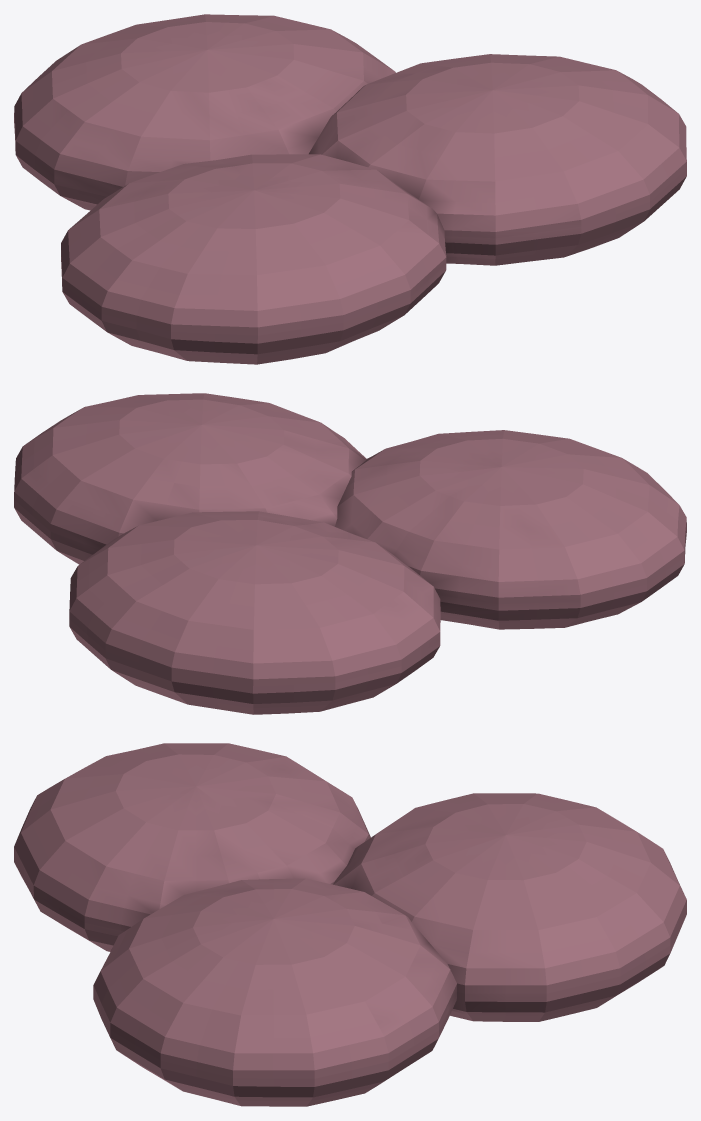
The model's file is p_cushions.glb.
3 views of the same model, one above another, from view 1: azimuth 30°, elevation 25°; view 2: azimuth 150°, elevation 25°; view 3: azimuth 270°, elevation 25° (orthographic). The views are drawn at different scales.
Visible parts, largest first — view 1: cushions; view 2: cushions; view 3: cushions.
Part boxes in pixels (x1,y1,x2,y2): cushions: (14,14,686,364); cushions: (14,393,686,714); cushions: (14,743,686,1106).
Size of the model in its own units: 0.9478 by 0.2083 by 0.8698.
